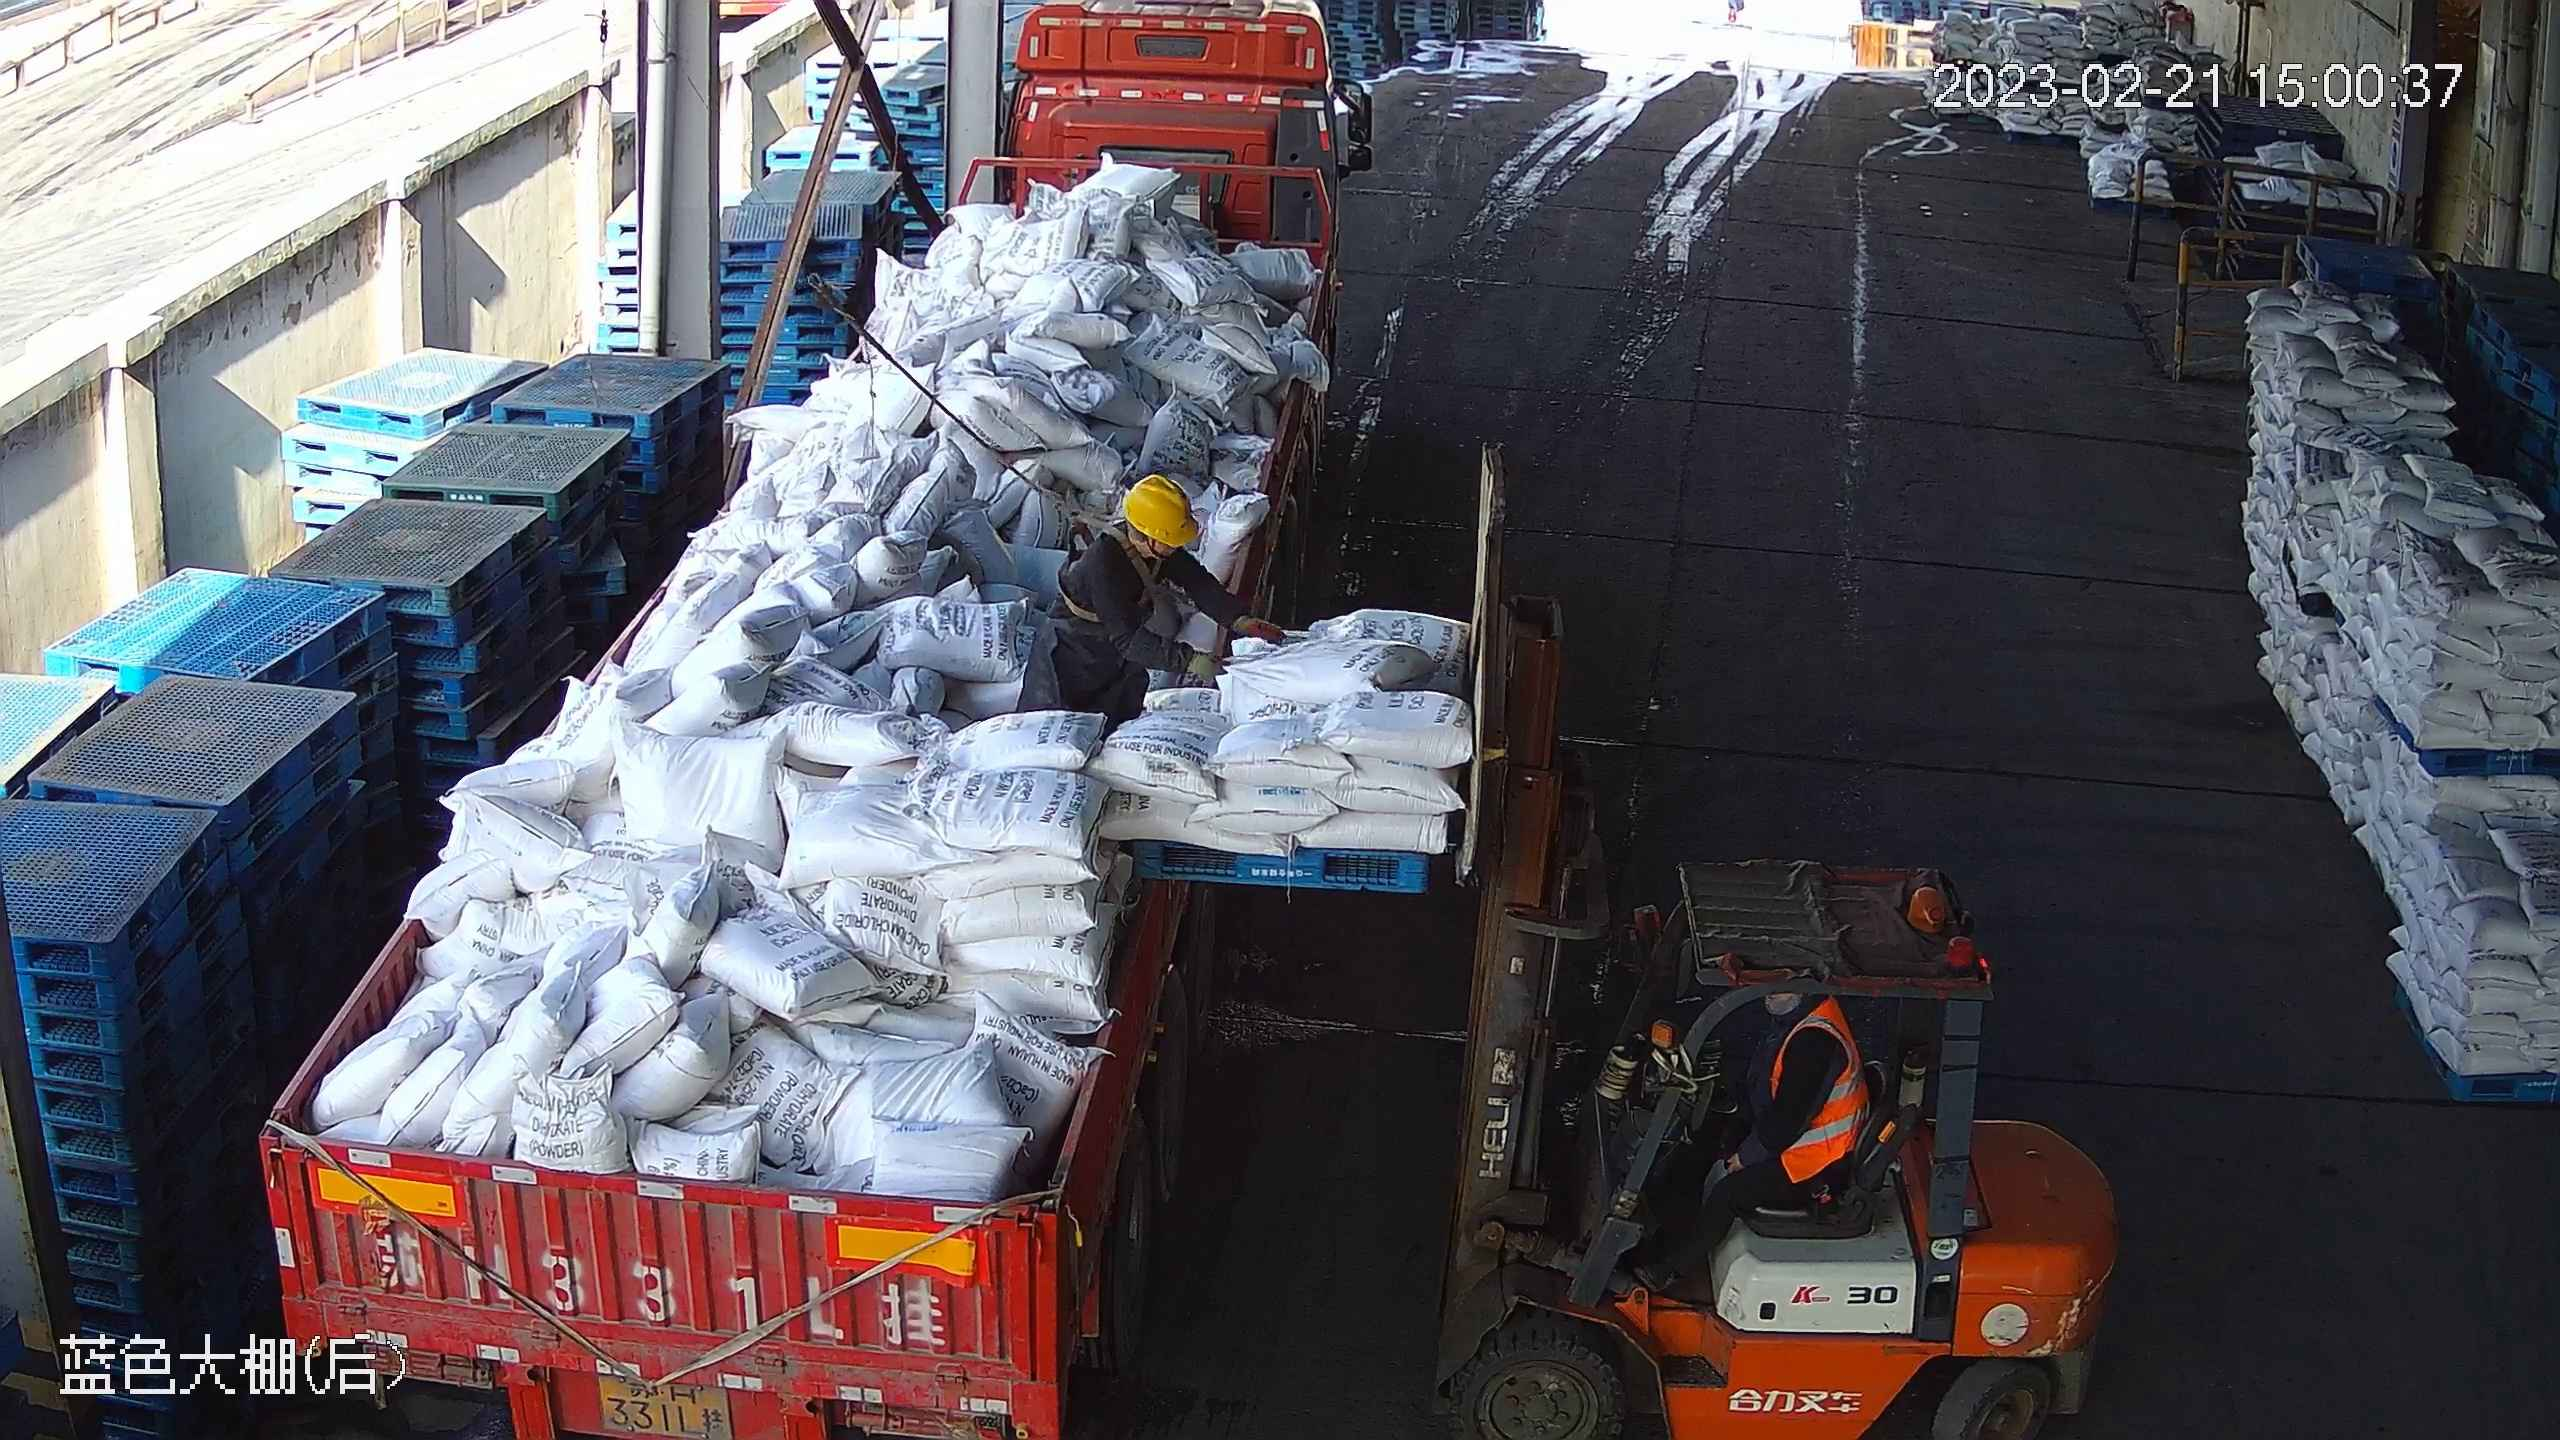belt: (1048, 501, 1146, 632)
head: (1074, 471, 1212, 627)
helmet: (1122, 472, 1200, 548)
people: (1623, 971, 1871, 1293), (1045, 472, 1278, 720)
truck: (247, 1, 1384, 1439)
